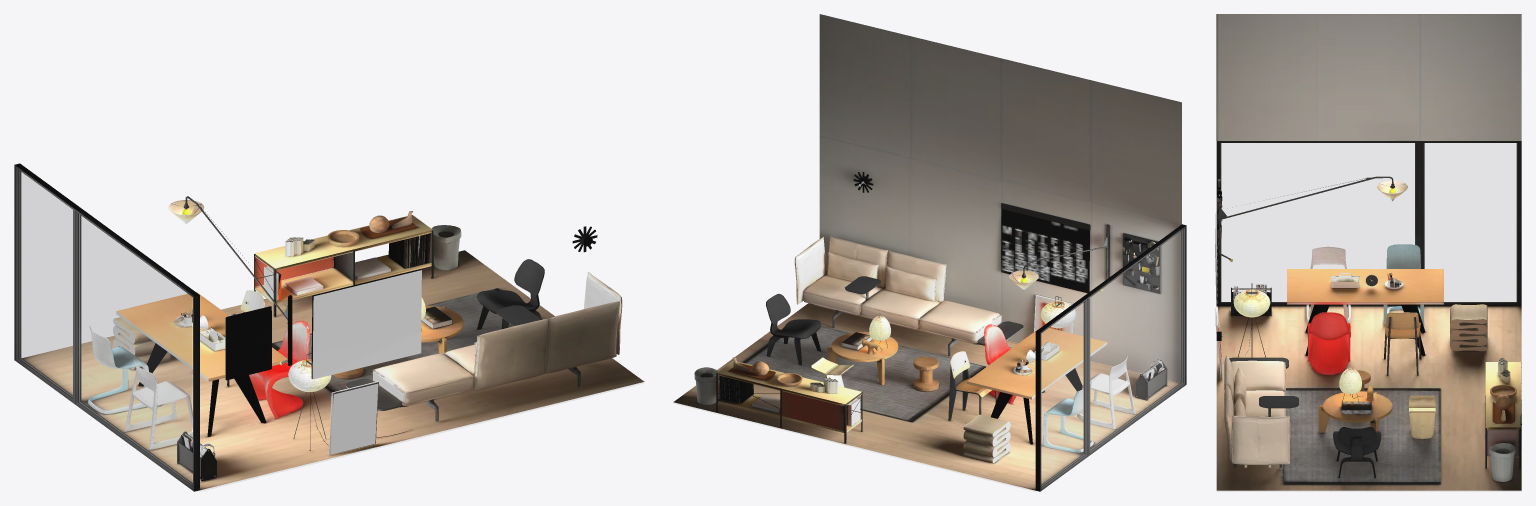
The model's file is compressed_alt3.glb.
3 renders of one model, left to right at view 1: azimuth 30°, elevation 25°; view 2: azimuth 150°, elevation 25°; view 3: azimuth 270°, elevation 25°, orthographic. The views are drawn at different scales.
Visible parts, largest first — view 1: Plane_Baked.004; view 2: Plane_Baked.004; view 3: Plane_Baked.004.
Boxes of the visible parts, x1=… form: Plane_Baked.004: x1=14, y1=163, x2=644, y2=491; Plane_Baked.004: x1=673, y1=14, x2=1186, y2=491; Plane_Baked.004: x1=1215, y1=14, x2=1521, y2=491.
Bounding box in the file's own units: 4.22 × 3.1 × 2.93.
4 materials, 2 textured.
